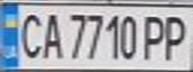0: (118, 11, 142, 61)
1: (103, 11, 121, 60)
7: (63, 9, 87, 60), (84, 10, 106, 61)
A: (36, 9, 66, 60)
C: (12, 9, 45, 61)
P: (157, 11, 193, 62), (139, 11, 172, 62)
